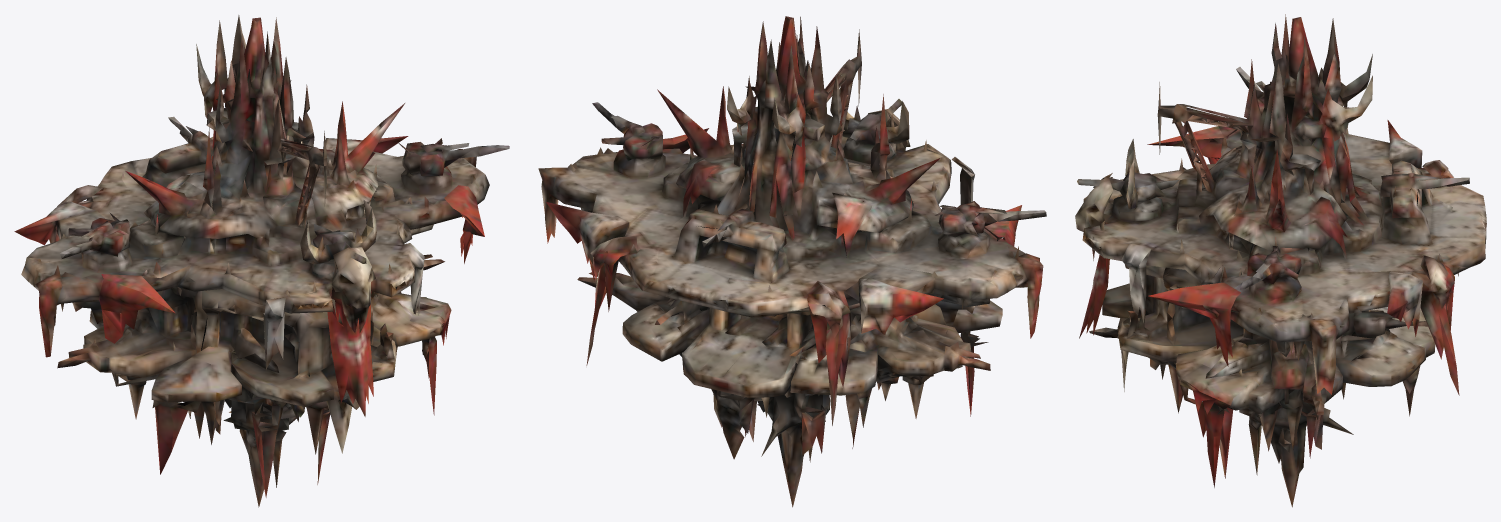
The model's file is HL_Station_Savagers_Military_retopo.glb.
3 renders of one model, left to right at view 1: azimuth 30°, elevation 25°; view 2: azimuth 150°, elevation 25°; view 3: azimuth 270°, elevation 25°, orthographic.
Visible parts, largest first — view 1: HL_Station_Savagers_Military_retopo; view 2: HL_Station_Savagers_Military_retopo; view 3: HL_Station_Savagers_Military_retopo.
Boxes of the visible parts, <box> form: HL_Station_Savagers_Military_retopo: <box>14,15,509,507</box>; HL_Station_Savagers_Military_retopo: <box>538,16,1046,507</box>; HL_Station_Savagers_Military_retopo: <box>1075,14,1486,507</box>.
Size of the model in its own units: 0.9792 by 0.9682 by 0.7361.
Materials: 1 (1 with a texture image).
